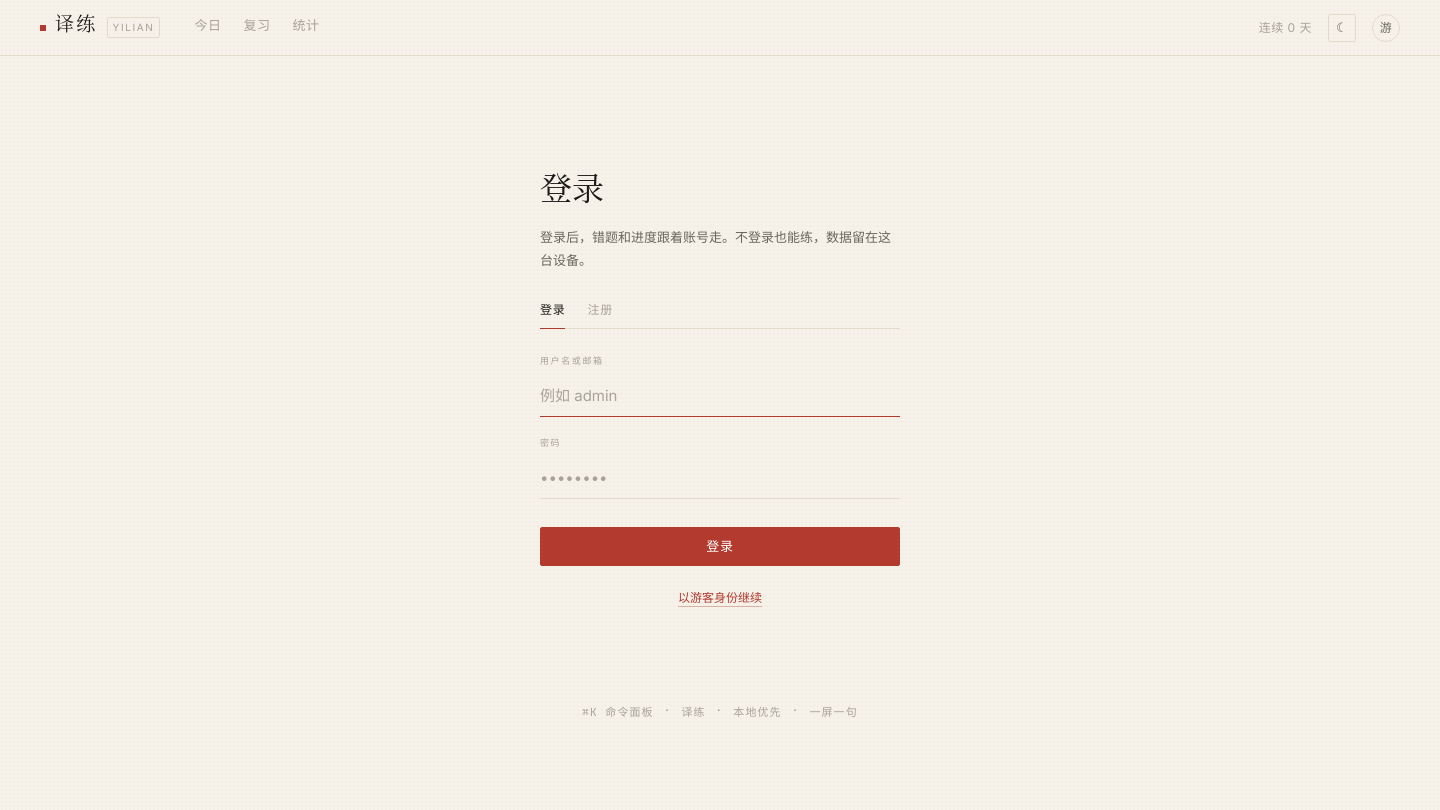
it: auth flow › logs in, sends the CSRF header, and lands on today
The image size is (1440, 810).
In the field labelled "用户名或邮箱": {"x": 720, "y": 397} x1=540 y1=377 x2=900 y2=417, type "admin"
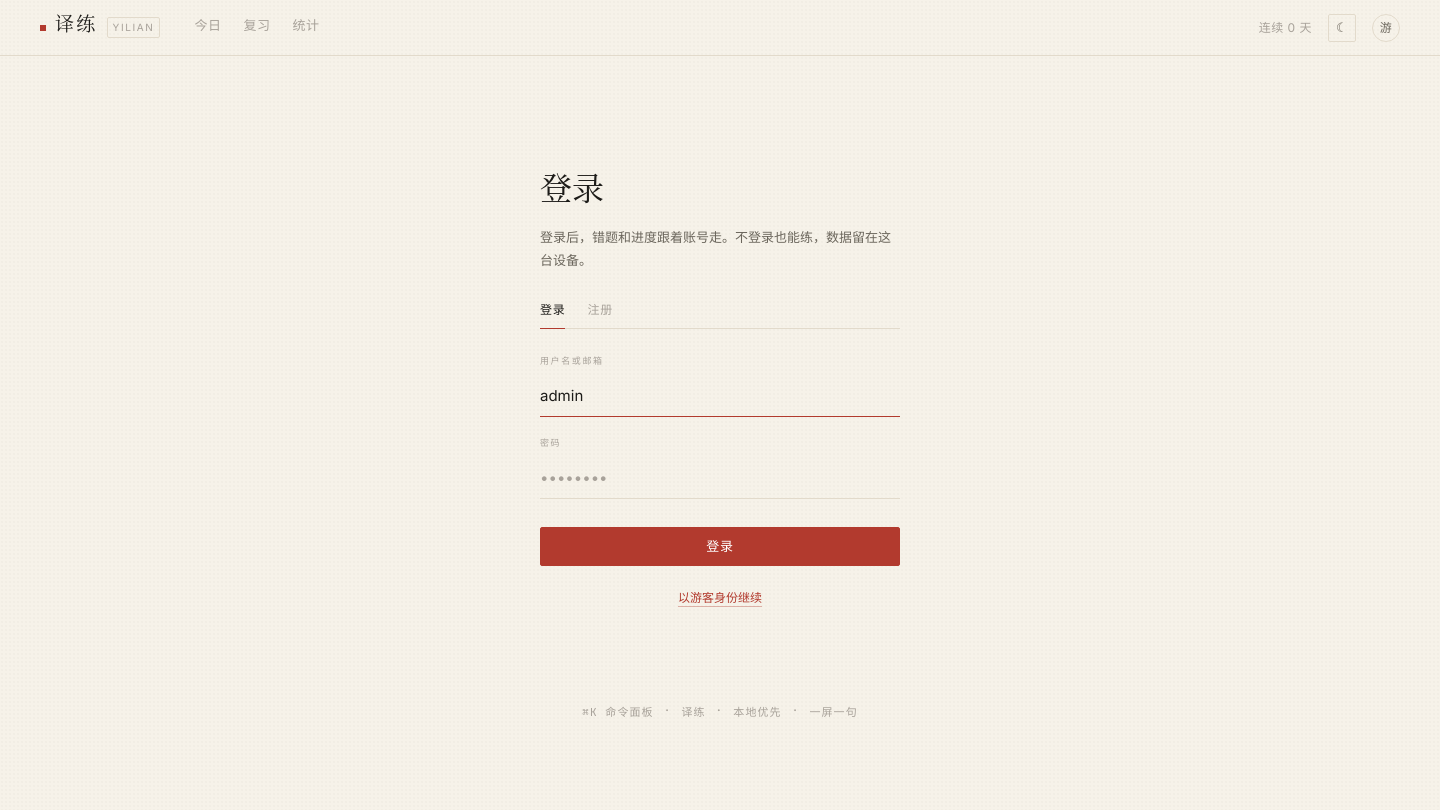
In the password field labelled "密码": {"x": 720, "y": 479} x1=540 y1=459 x2=900 y2=499, type "test-admin-password"
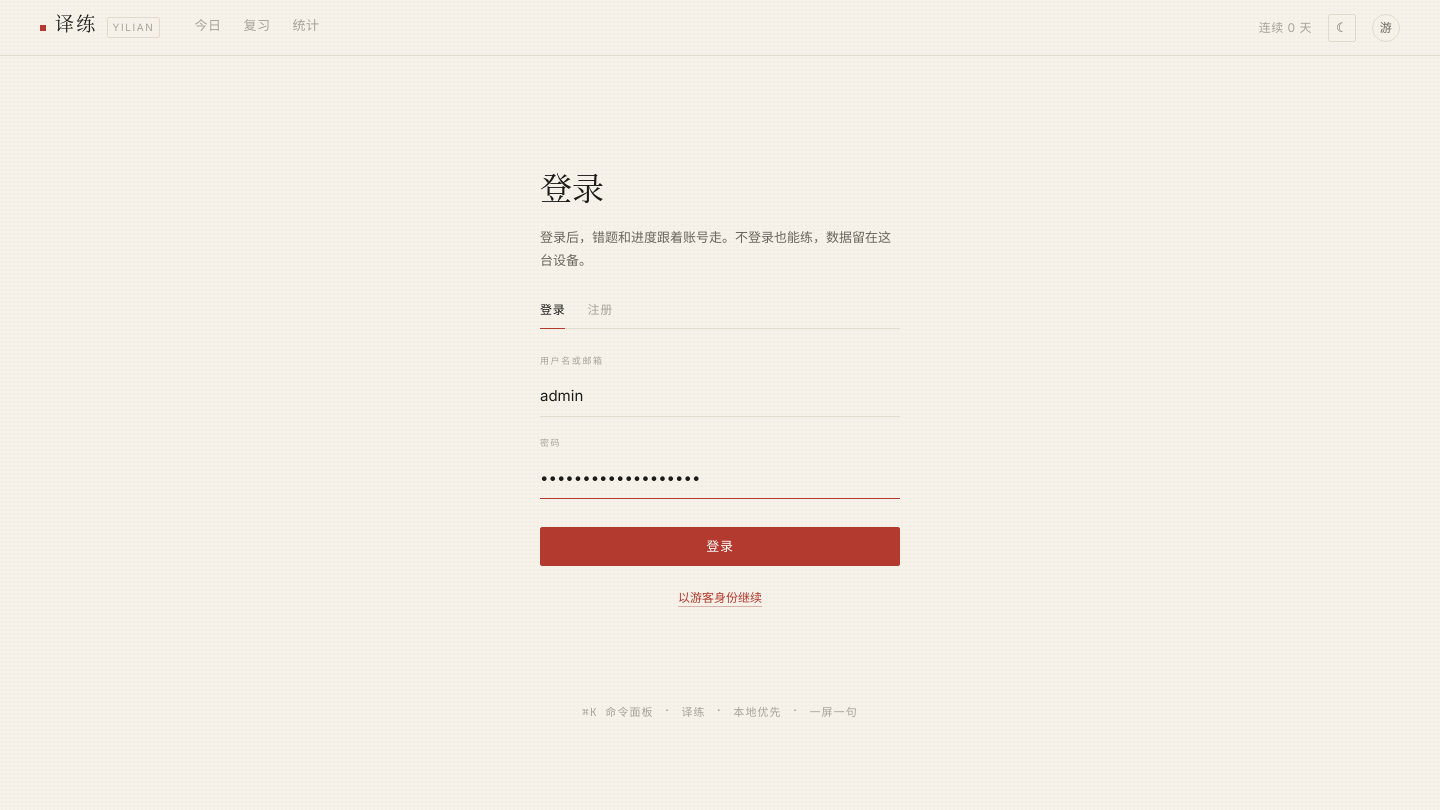
Click the button "登录": {"x": 720, "y": 547} x1=540 y1=527 x2=900 y2=566
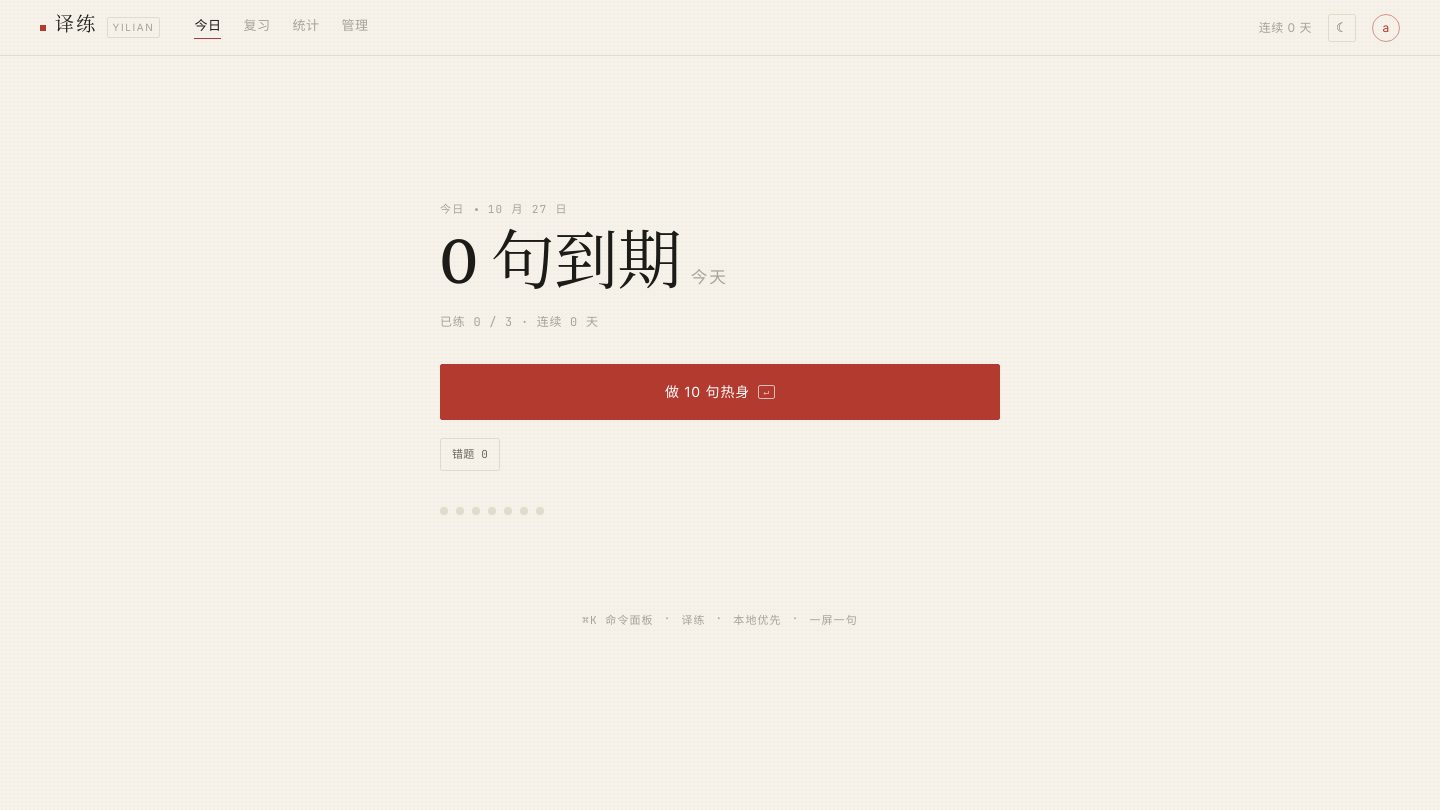
expect the link "做 10 句热身 ↵" is shown: met, box x1=440 y1=364 x2=1000 y2=420
